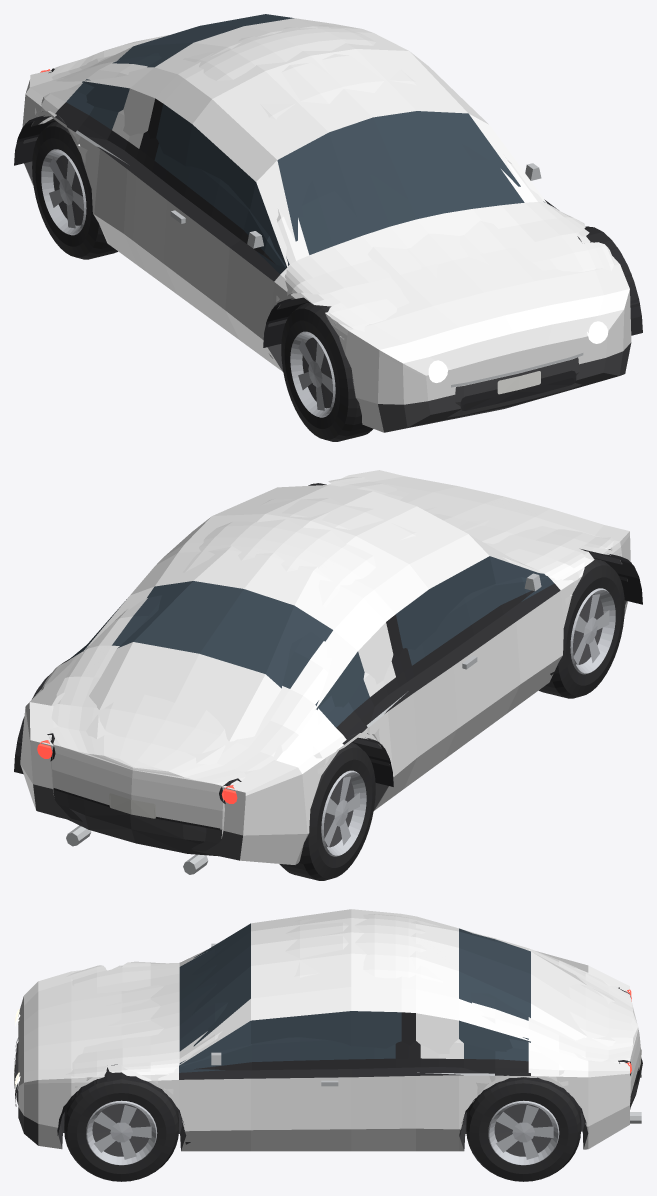
The model's file is besouro.glb.
3 renders of one model, top to bottom at view 1: azimuth 30°, elevation 25°; view 2: azimuth 150°, elevation 25°; view 3: azimuth 270°, elevation 25°, orthographic. The views are drawn at different scales.
Parts seen in each view (by area): view 1: body.001, body, glass.001, glass, wheel_fr, wheel_rr, details, wheel_wells.001, wheel_wells, lamp_head.001; view 2: body.001, body, glass.001, wheel_rr, wheel_fr, details, glass, wheel_wells.001, wheel_wells; view 3: body.001, body, glass.001, wheel_rl, wheel_fl, glass, details, wheel_wells, wheel_wells.001.
Boxes of the visible parts, x1=… form: body.001: x1=22, y1=18, x2=631, y2=432; body: x1=40, y1=24, x2=614, y2=331; glass.001: x1=82, y1=14, x2=550, y2=274; glass: x1=66, y1=53, x2=547, y2=267; wheel_fr: x1=281, y1=302, x2=373, y2=441; wheel_rr: x1=32, y1=121, x2=117, y2=259; details: x1=35, y1=108, x2=583, y2=417; wheel_wells.001: x1=14, y1=115, x2=640, y2=347; wheel_wells: x1=14, y1=116, x2=642, y2=344; lamp_head.001: x1=428, y1=321, x2=608, y2=382; body.001: x1=20, y1=470, x2=630, y2=864; body: x1=41, y1=477, x2=614, y2=851; glass.001: x1=83, y1=556, x2=554, y2=709; wheel_rr: x1=279, y1=742, x2=375, y2=880; wheel_fr: x1=539, y1=558, x2=624, y2=698; details: x1=54, y1=552, x2=620, y2=874; glass: x1=67, y1=573, x2=547, y2=727; wheel_wells.001: x1=16, y1=483, x2=642, y2=786; wheel_wells: x1=14, y1=483, x2=642, y2=783; body.001: x1=18, y1=909, x2=629, y2=1151; body: x1=66, y1=914, x2=640, y2=1109; glass.001: x1=179, y1=923, x2=530, y2=1072; wheel_rl: x1=466, y1=1079, x2=581, y2=1181; wheel_fl: x1=64, y1=1079, x2=178, y2=1181; glass: x1=179, y1=933, x2=528, y2=1068; details: x1=14, y1=943, x2=642, y2=1144; wheel_wells: x1=57, y1=1067, x2=587, y2=1135; wheel_wells.001: x1=57, y1=1079, x2=587, y2=1136.
Size of the model in its own units: 1.95 by 1.52 by 4.38.
